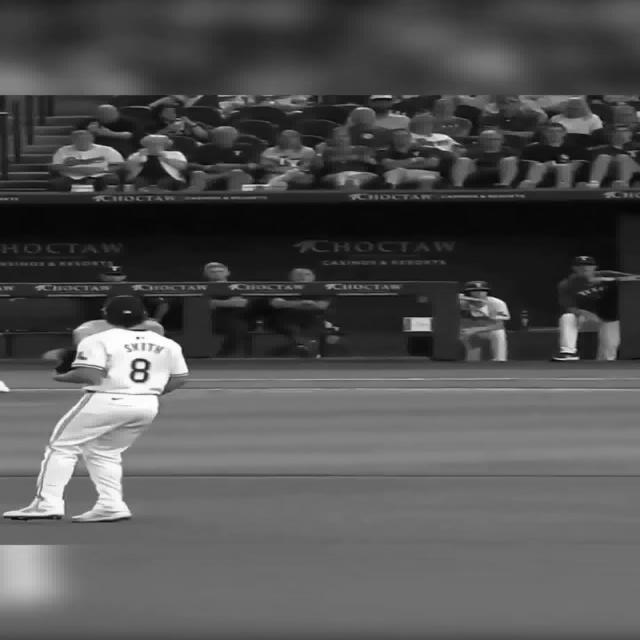baseball_glove: (40, 348, 76, 373)
shoe: (2, 506, 64, 520), (71, 508, 131, 522), (551, 352, 579, 360)
